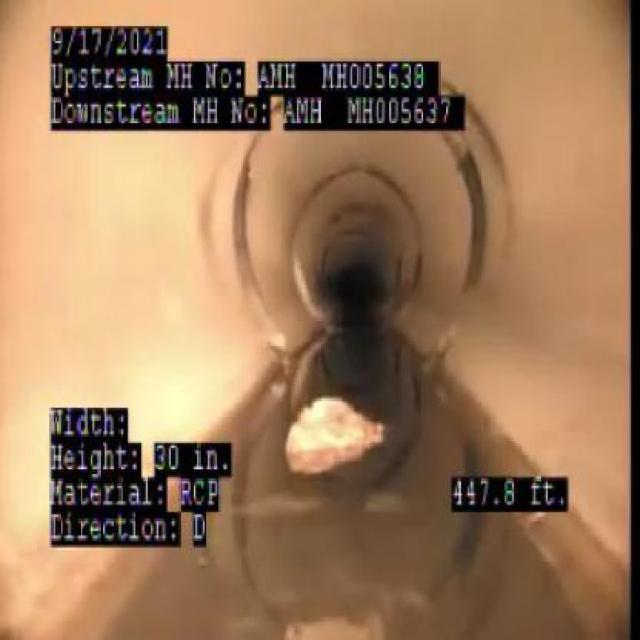Debris: (272, 382, 390, 482)
